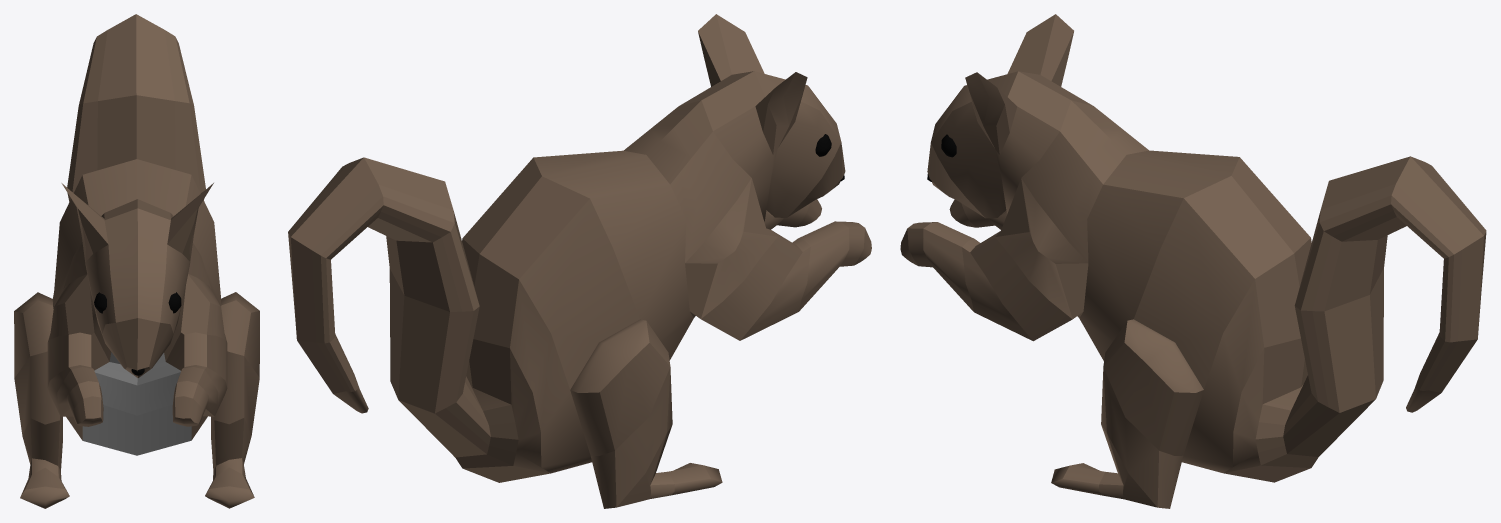
File: Squirrel.fbx
The picture shows the model from 3 angles, left to right: view 1: azimuth 30°, elevation 25°; view 2: azimuth 150°, elevation 25°; view 3: azimuth 270°, elevation 25°; orthographic projection. The views are drawn at different scales.
Parts seen in each view (by area): view 1: Squirrel_Model:pCube3; view 2: Squirrel_Model:pCube3; view 3: Squirrel_Model:pCube3.
Boxes of the visible parts, bbox=[...] form: Squirrel_Model:pCube3: bbox=[14, 14, 259, 508]; Squirrel_Model:pCube3: bbox=[288, 14, 871, 508]; Squirrel_Model:pCube3: bbox=[900, 14, 1486, 508].
Bounding box in the file's own units: 0.113 × 0.1224 × 0.1697.
